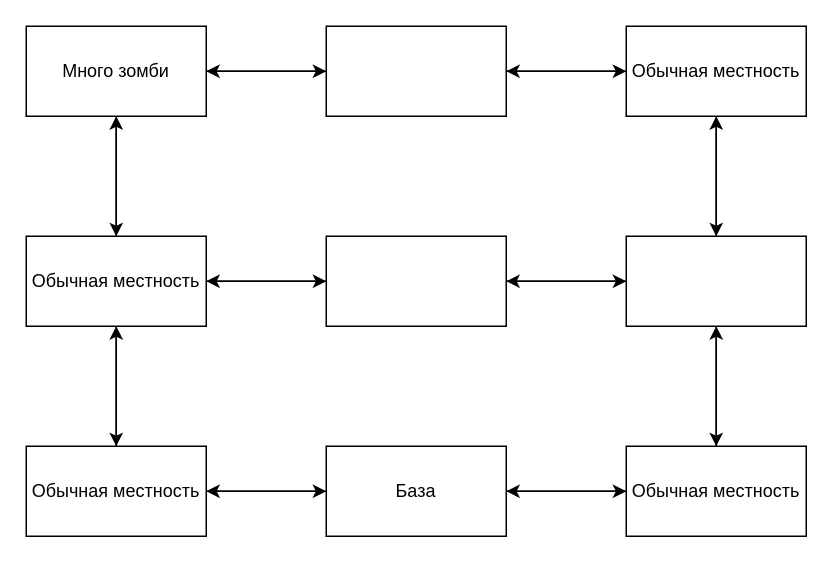
The diagram is 833 pixels wide and 563 high, and some of its shapes have lost their labels. Each missing label, with the centre of its shape:
Болотистая местность: (x=715, y=280)
Бывшее кладбище: (x=415, y=280)
Цель: (x=415, y=70)
